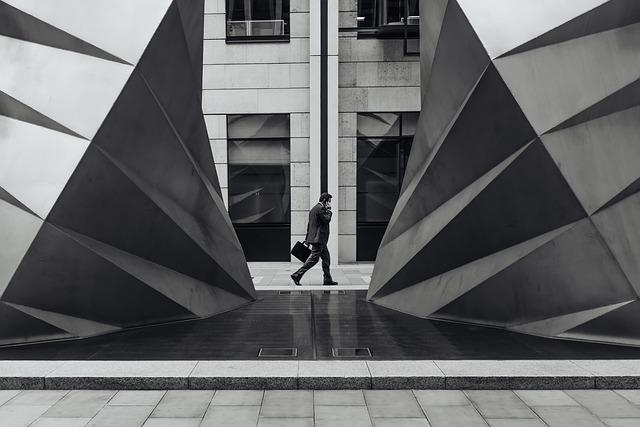Non_Gorille: (2, 2, 640, 423)
